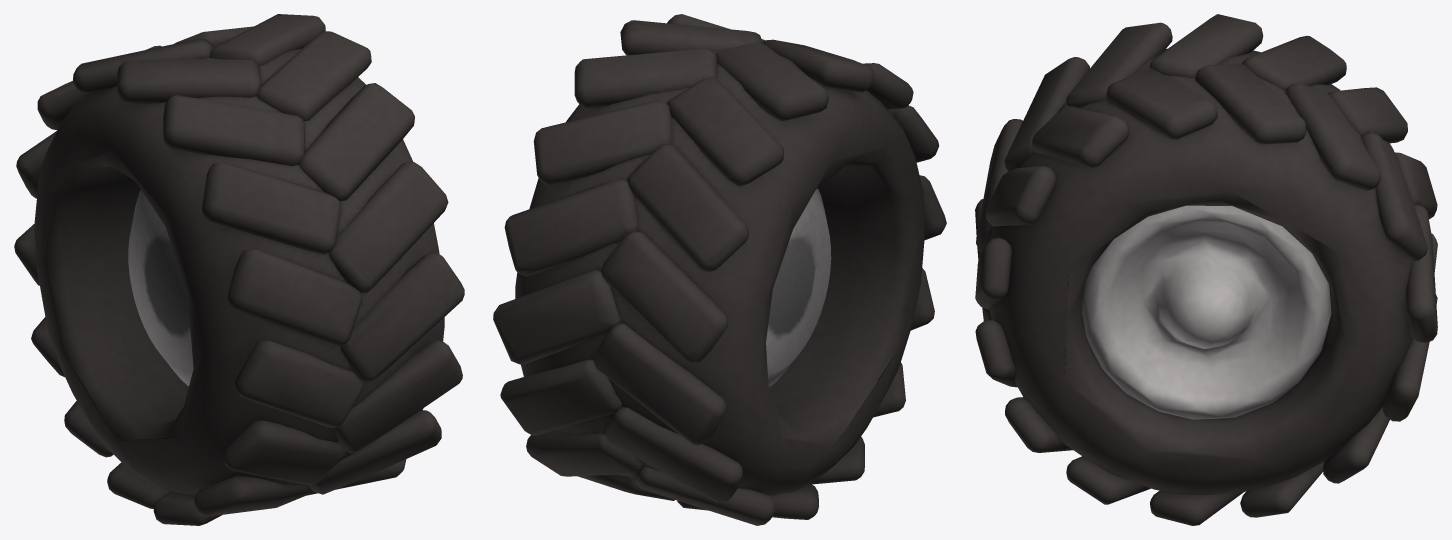
The picture shows the model from 3 angles, left to right: view 1: azimuth 30°, elevation 25°; view 2: azimuth 150°, elevation 25°; view 3: azimuth 270°, elevation 25°; orthographic projection. The views are drawn at different scales.
Parts seen in each view (by area): view 1: wheel_RL; view 2: wheel_RL; view 3: wheel_RL.
Part boxes in pixels (x1=…): wheel_RL: x1=14, y1=14, x2=464, y2=525; wheel_RL: x1=493, y1=14, x2=946, y2=525; wheel_RL: x1=975, y1=14, x2=1437, y2=525.
Bounding box in the file's own units: 0.2395 × 0.417 × 0.4153.
1 material, 1 textured.
